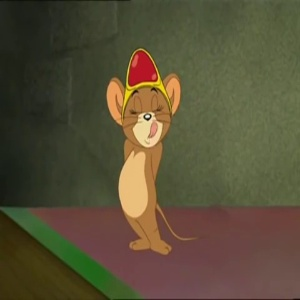Jerry: (106, 69, 186, 147)
